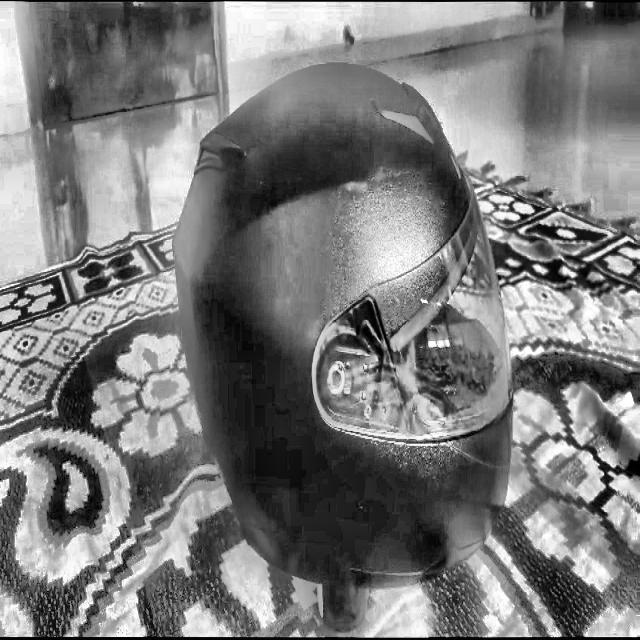Helmet: (168, 55, 518, 568)
